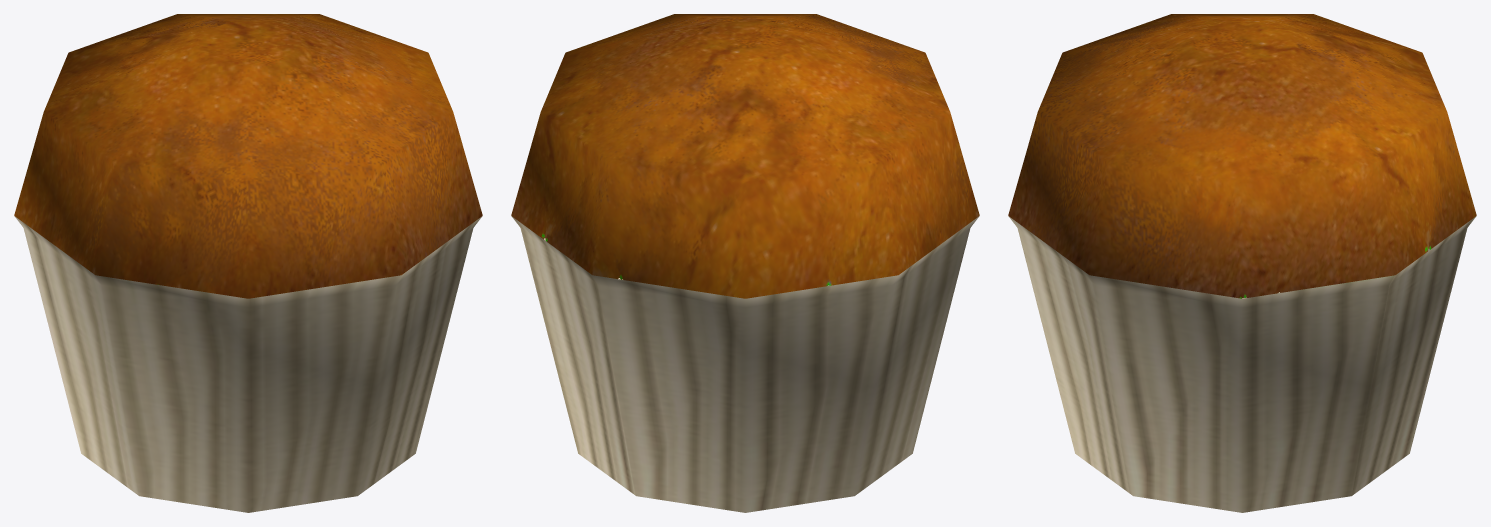
File: Cake.FBX
3 views of the same model, side by side, from view 1: azimuth 30°, elevation 25°; view 2: azimuth 150°, elevation 25°; view 3: azimuth 270°, elevation 25° (orthographic).
Visible parts, largest first — view 1: Cone001; view 2: Cone001; view 3: Cone001.
Boxes of the visible parts, x1,y1,x2,y2 form: Cone001: (14,14,482,512); Cone001: (511,14,979,512); Cone001: (1008,14,1476,512).
Size of the model in its own units: 116 by 110 by 118.
Materials: 1 (1 with a texture image).
